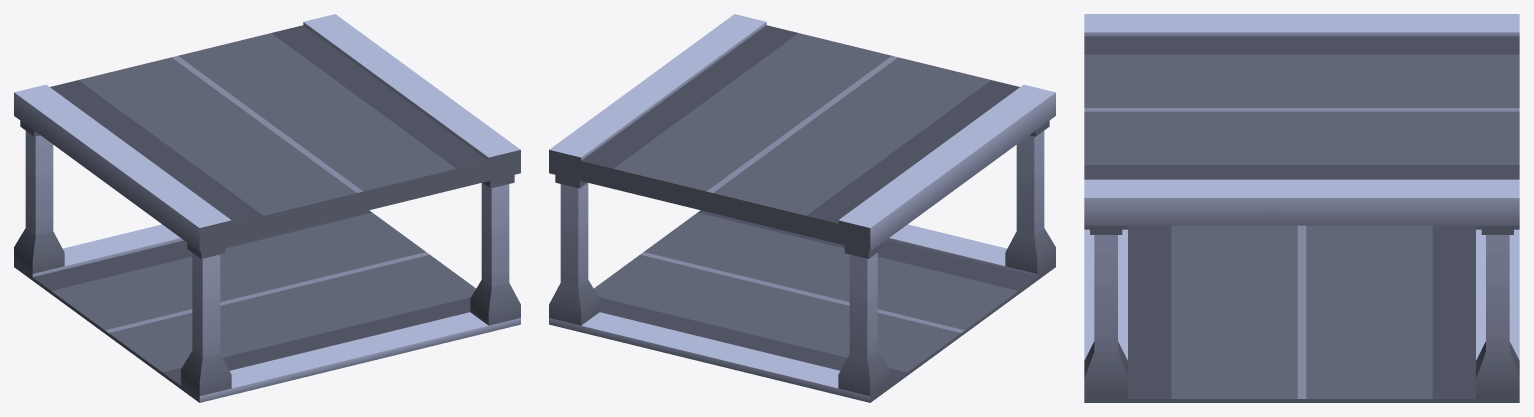
The model's file is roads.road_bridge.glb.
3 renders of one model, left to right at view 1: azimuth 30°, elevation 25°; view 2: azimuth 150°, elevation 25°; view 3: azimuth 270°, elevation 25°, orthographic. The views are drawn at different scales.
Visible parts, largest first — view 1: road-bridge; view 2: road-bridge; view 3: road-bridge.
Boxes of the visible parts, x1,y1,x2,y2 form: road-bridge: (14, 14, 520, 402); road-bridge: (549, 14, 1055, 402); road-bridge: (1084, 14, 1519, 402).
Bounding box in the file's own units: 7.45 × 3.87 × 7.45.
1 material, 1 textured.
